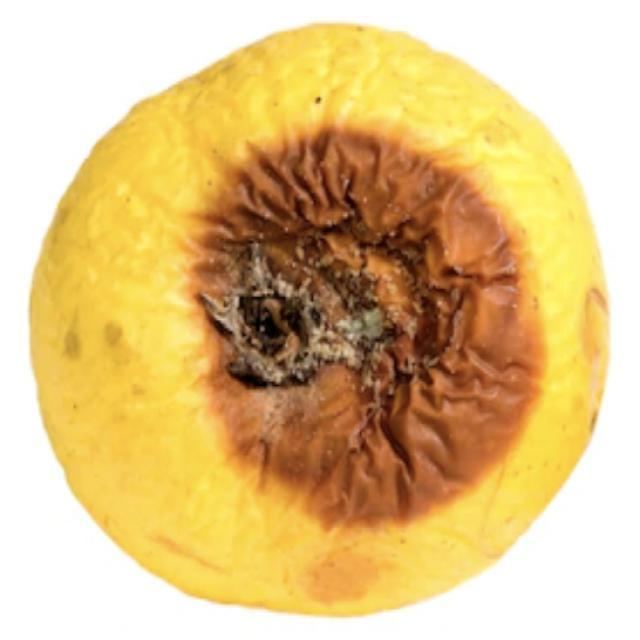Rotten: (27, 19, 610, 618)
